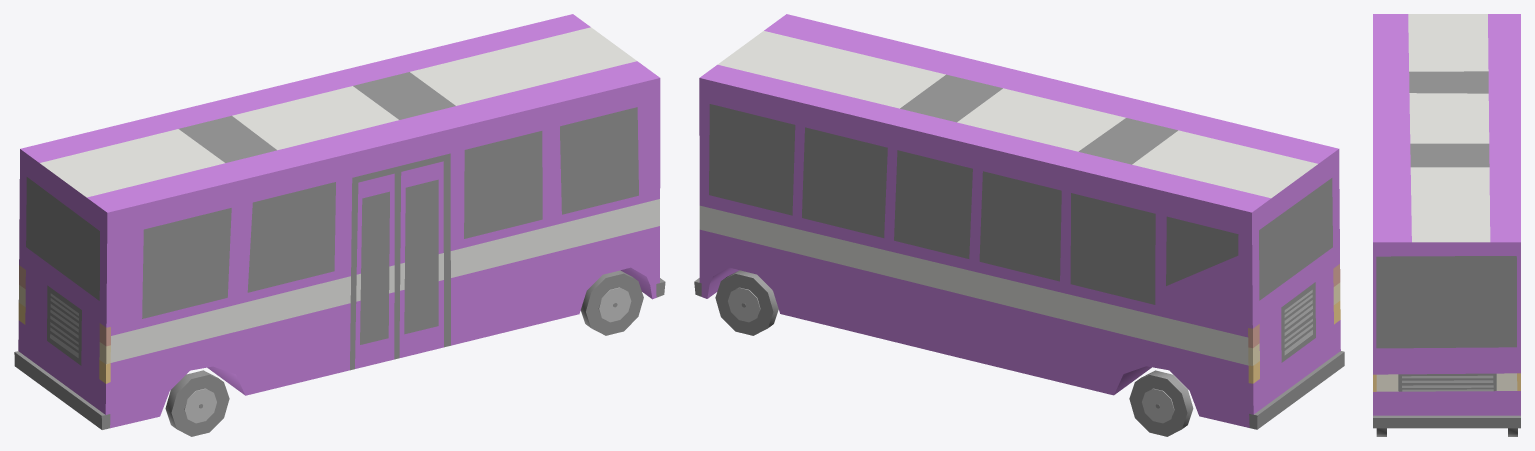
The model's file is bus3.fbx.
3 views of the same model, side by side, from view 1: azimuth 30°, elevation 25°; view 2: azimuth 150°, elevation 25°; view 3: azimuth 270°, elevation 25° (orthographic). The views are drawn at different scales.
Visible parts, largest first — view 1: Extrude_2, Cylinder_9, Cylinder_6; view 2: Extrude_2, Cylinder_8, Cylinder_7; view 3: Extrude_2.
Boxes of the visible parts, <box> form: Extrude_2: <box>14,14,665,429</box>; Cylinder_9: <box>165,370,229,436</box>; Cylinder_6: <box>580,270,643,335</box>; Extrude_2: <box>694,14,1344,429</box>; Cylinder_8: <box>1129,370,1193,436</box>; Cylinder_7: <box>715,270,778,335</box>; Extrude_2: <box>1373,14,1520,428</box>.
Bounding box in the file's own units: 742 × 310 × 199.
